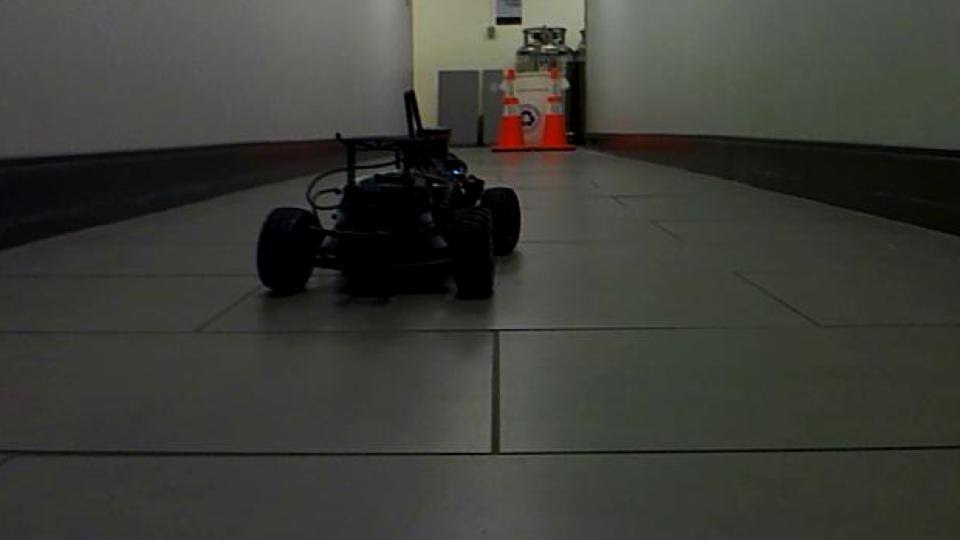car: (254, 88, 525, 302)
